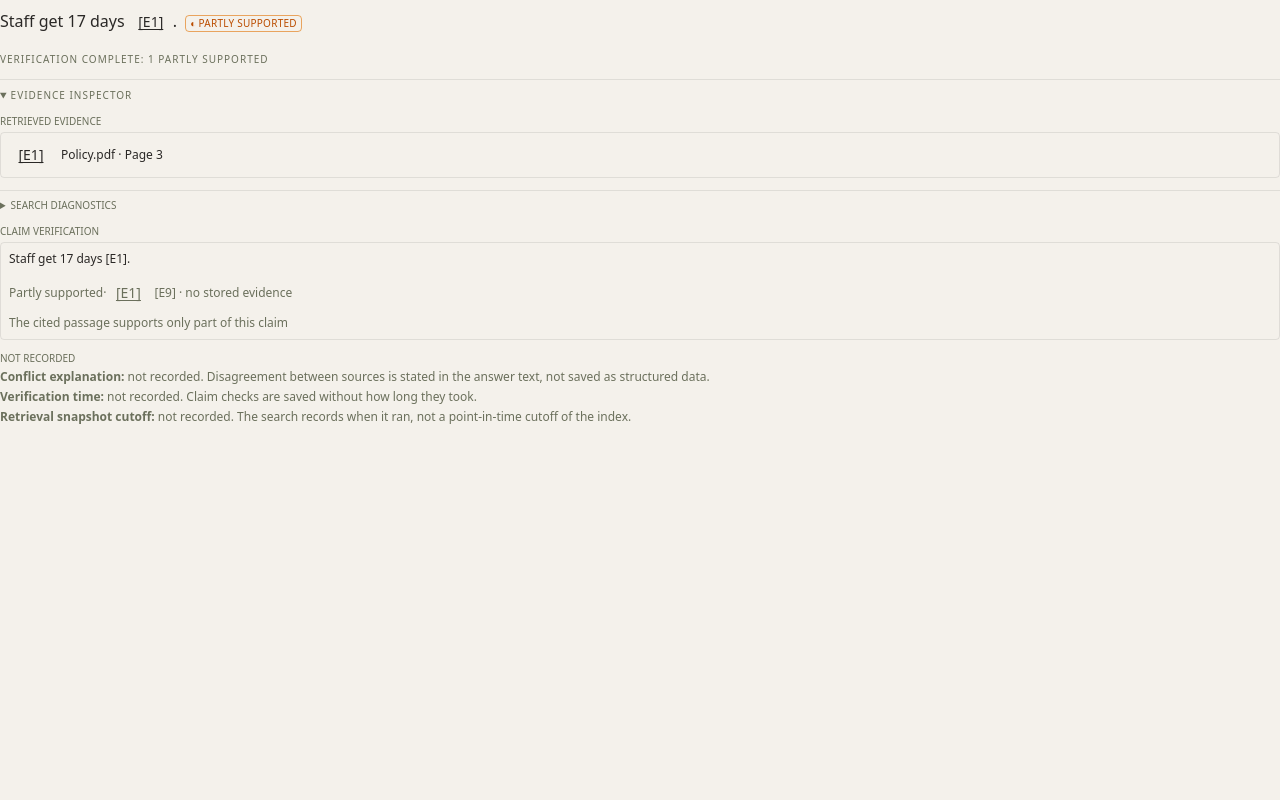
Test: citation viewer states › shows a deleted source as deleted and withholds the quote
Step 1. Click the button "[E1]" next to "E9" → (128, 293), box 106,271 -> 150,315
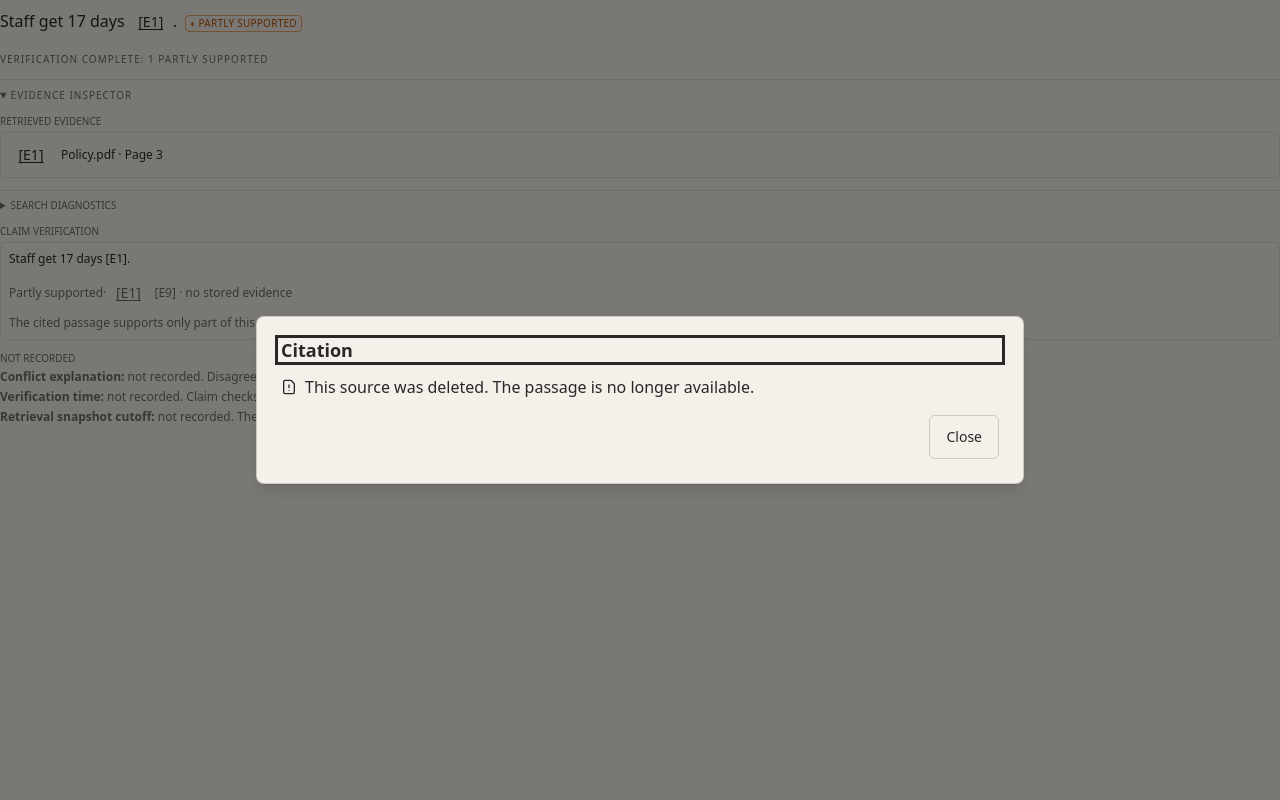
Check: the message "This source was deleted. The passage is no longer available." is shown, box 281,376 -> 754,398
